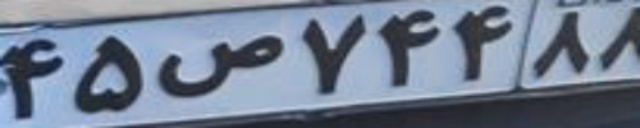4: (0, 38, 64, 118), (450, 5, 516, 81), (377, 10, 441, 87)
5: (73, 34, 144, 111)
7: (300, 13, 365, 94)
8: (534, 9, 589, 76), (596, 8, 639, 72)
saat: (159, 32, 284, 97)
